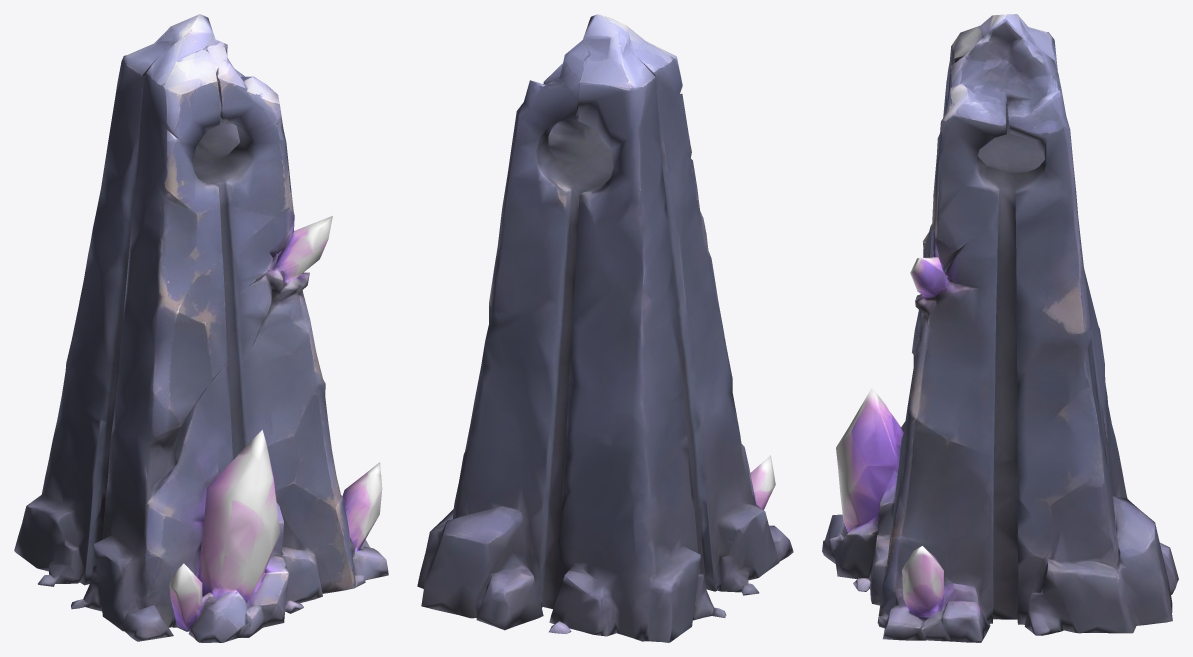
The model's file is great_monolith.glb.
The picture shows the model from 3 angles, left to right: view 1: azimuth 30°, elevation 25°; view 2: azimuth 150°, elevation 25°; view 3: azimuth 270°, elevation 25°; orthographic projection. The views are drawn at different scales.
Parts seen in each view (by area): view 1: great_monolith; view 2: great_monolith; view 3: great_monolith.
Boxes of the visible parts, x1=… form: great_monolith: x1=14, y1=14, x2=388, y2=642; great_monolith: x1=417, y1=14, x2=793, y2=642; great_monolith: x1=822, y1=14, x2=1178, y2=642.
Size of the model in its own units: 3.23 by 6 by 3.45.
Materials: 1 (1 with a texture image).
